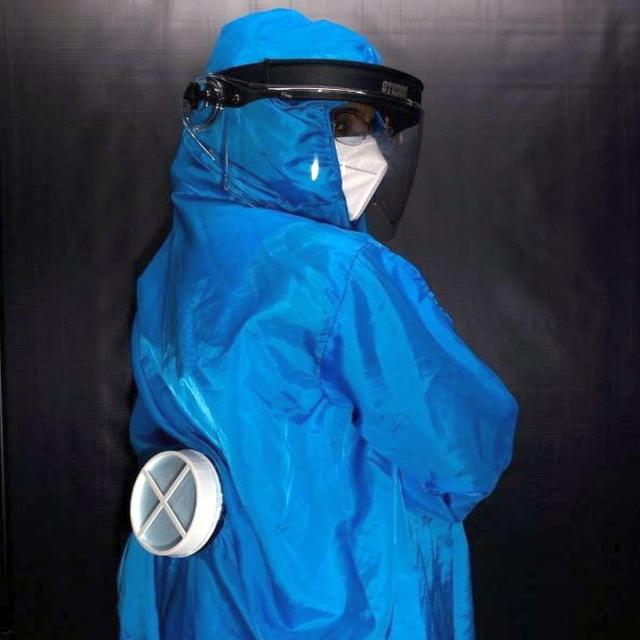Coverall: (62, 16, 525, 640)
Goggles: (300, 92, 387, 145)
Mask: (303, 126, 397, 224)
